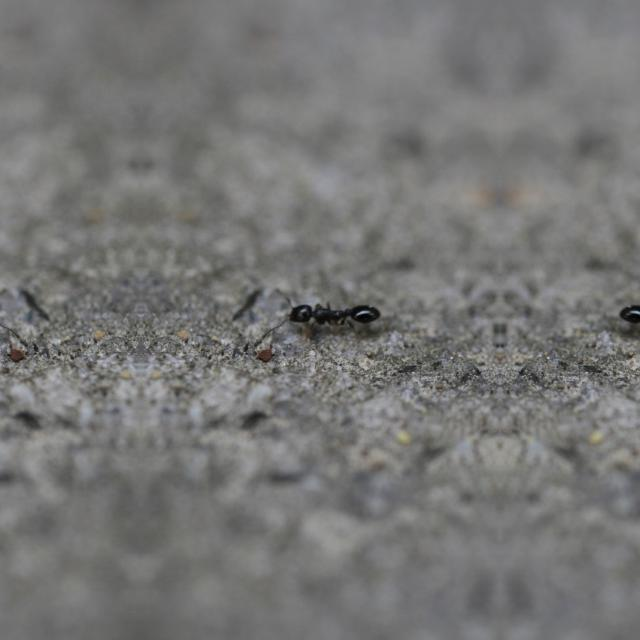Temnothorax: (278, 275, 387, 349), (612, 275, 640, 349)
